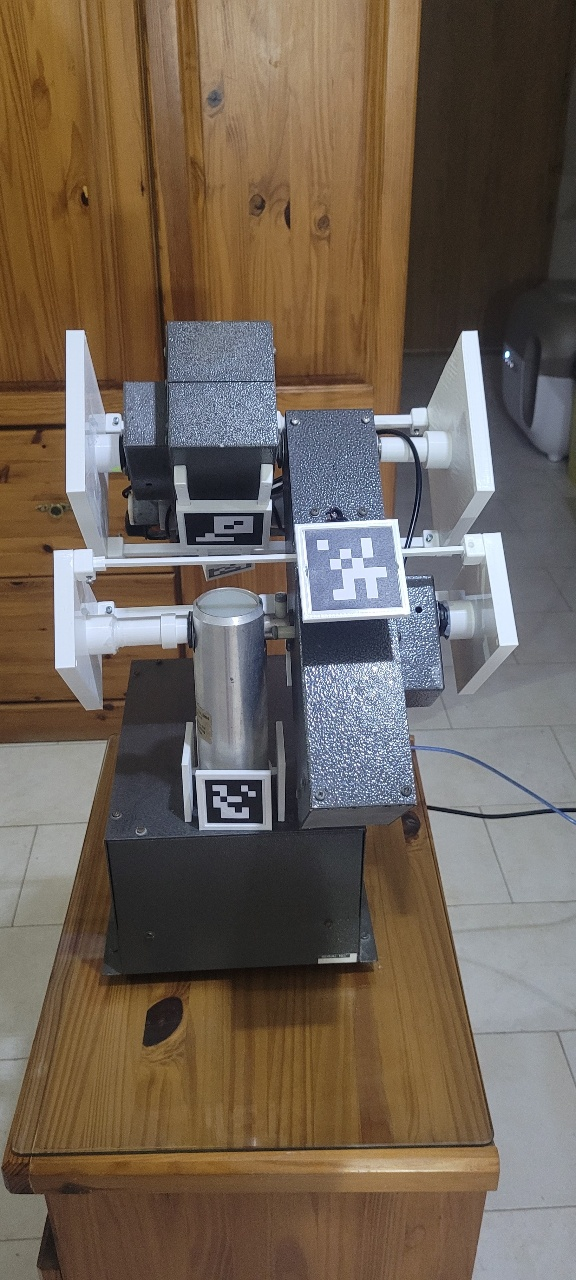Robot: (51, 317, 521, 834)
